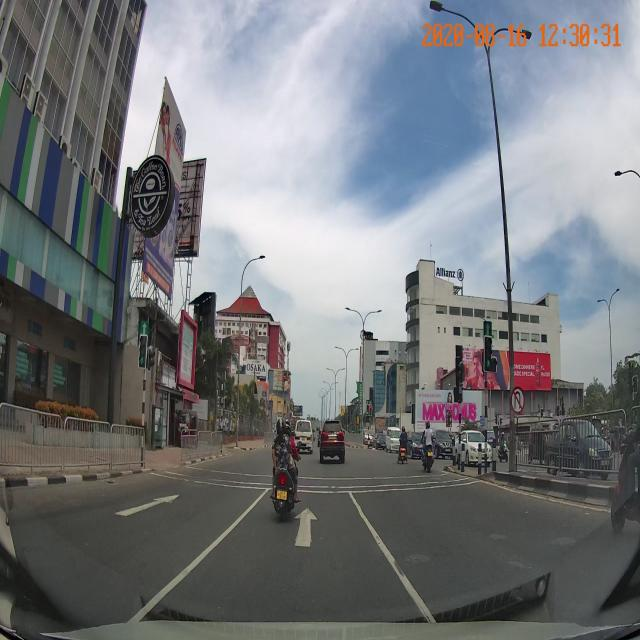Strelka vpered: (115, 494, 181, 518), (292, 506, 319, 549)
